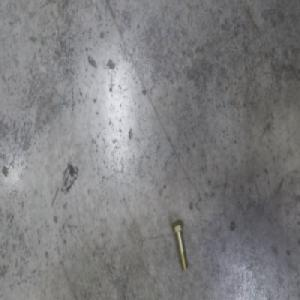Bolt: (170, 218, 188, 271)
